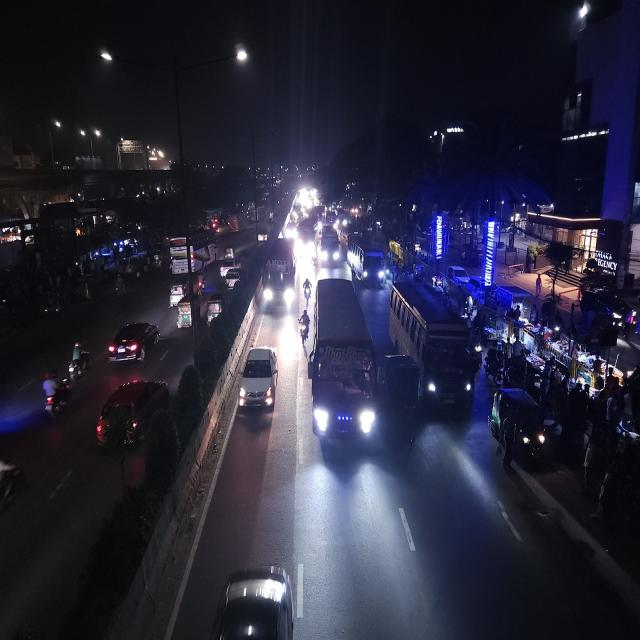bus: (308, 274, 376, 461), (387, 277, 478, 413), (263, 236, 297, 315), (345, 232, 386, 292), (169, 229, 217, 273), (296, 210, 320, 266), (318, 216, 341, 270)
car: (94, 374, 170, 458), (238, 343, 280, 416), (105, 316, 161, 366), (220, 264, 243, 292), (446, 263, 470, 286)
cng: (488, 384, 556, 466), (175, 293, 199, 333), (204, 292, 226, 328), (222, 244, 236, 261), (256, 228, 269, 245)
motorcycle: (39, 370, 74, 422), (66, 340, 92, 383), (298, 307, 312, 346), (301, 275, 313, 307)
truck: (262, 236, 297, 315), (166, 273, 195, 308)
